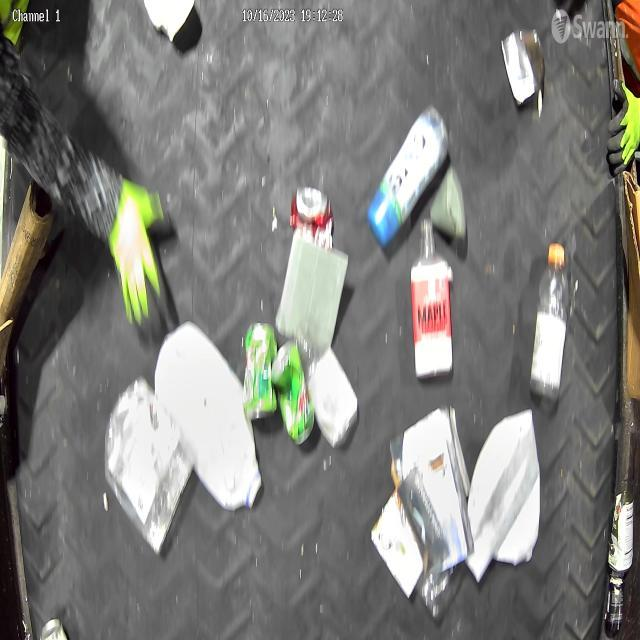can: (270, 338, 318, 444), (240, 318, 280, 422), (501, 26, 546, 108), (290, 184, 337, 248), (608, 490, 635, 574), (39, 616, 70, 640)
milk_jug: (154, 319, 263, 510)
plastic_bottle: (530, 236, 570, 404)
